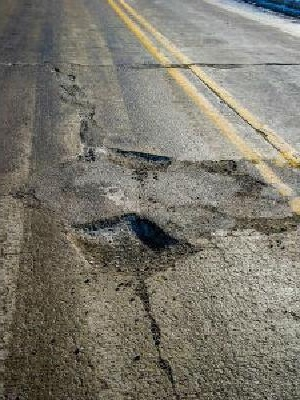pothole: (63, 210, 199, 281), (230, 210, 299, 238), (104, 146, 175, 172), (194, 155, 240, 174)
